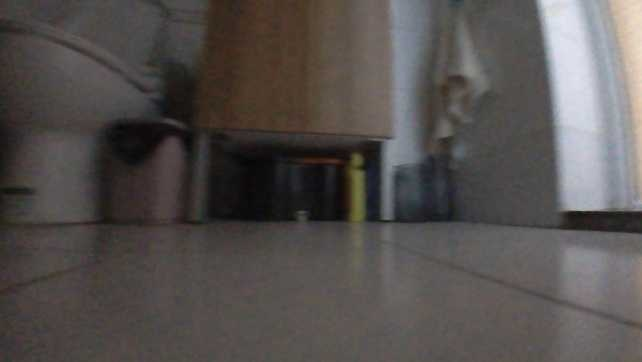toilet: (5, 17, 159, 225)
trash_can: (105, 114, 190, 223)
